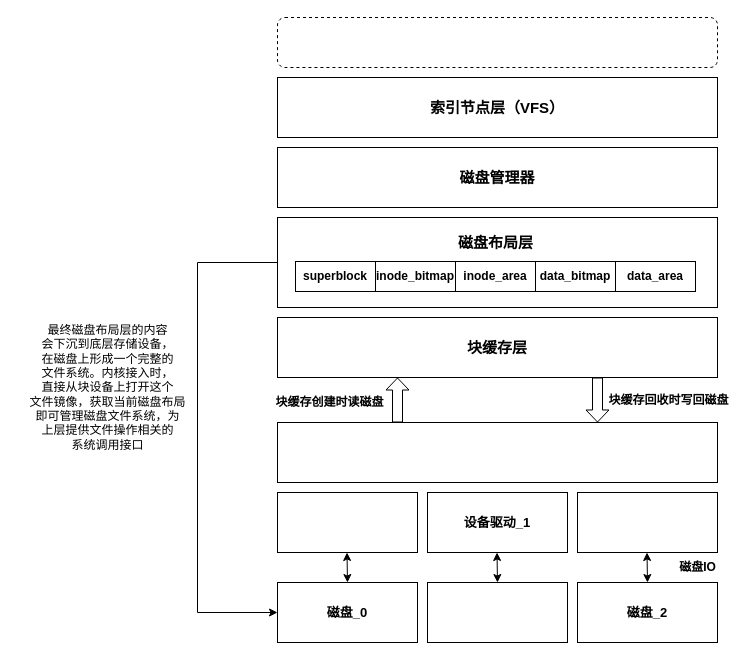
Some shapes in this 755 by 660 pixel diagram are drawn without their labels. The centre of each missing label's shape, as x and y in pixels:
"`Inode` as Regular_File/Directory" goes at (497,42).
"块设备统一接口层" goes at (497,452).
"磁盘_1" goes at (497,612).
"设备驱动_0" goes at (347,522).
"设备驱动_2" goes at (647,522).
